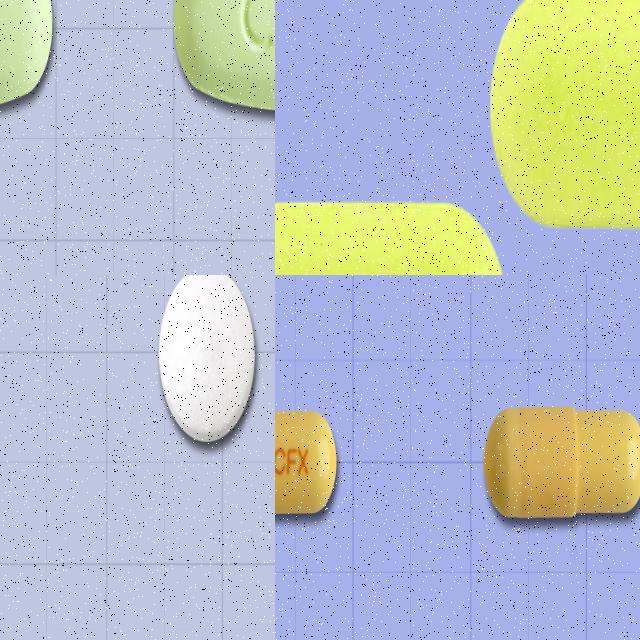Cefixime Cap- Reyon: (481, 398, 640, 523), (275, 397, 342, 527)
Clacid: (487, 0, 640, 235), (275, 190, 515, 275)
Clarithromycin Tab- Youngpoong: (172, 0, 275, 113)
Croxacin: (157, 275, 256, 443)
